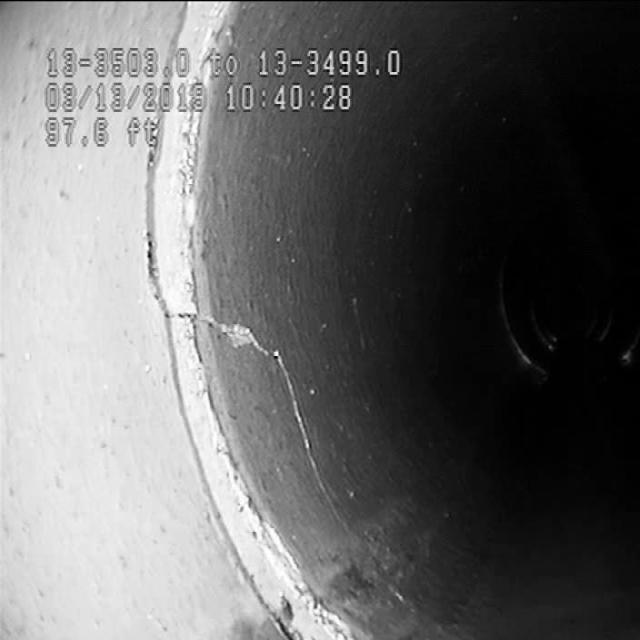Crack: (160, 260, 373, 540)
